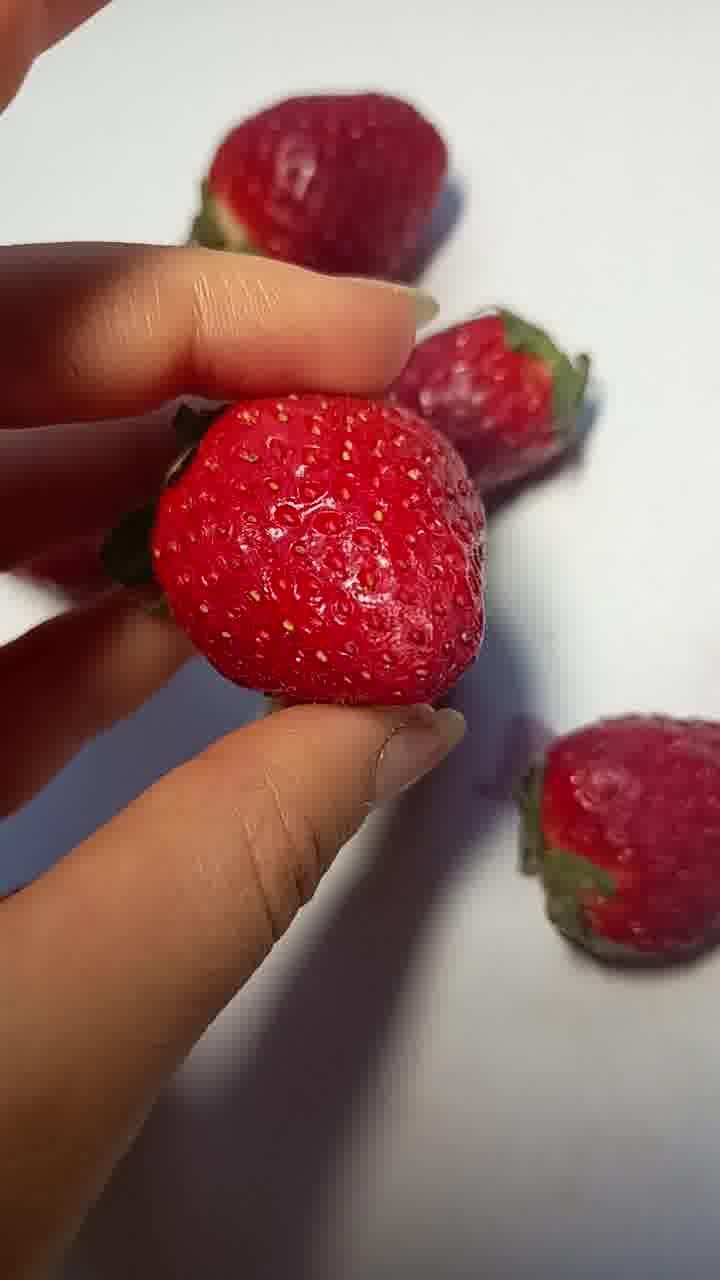strawberry: (536, 713, 720, 970), (208, 88, 451, 277), (403, 310, 577, 507)
